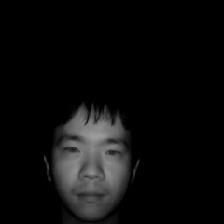normal: (34, 80, 152, 221)
